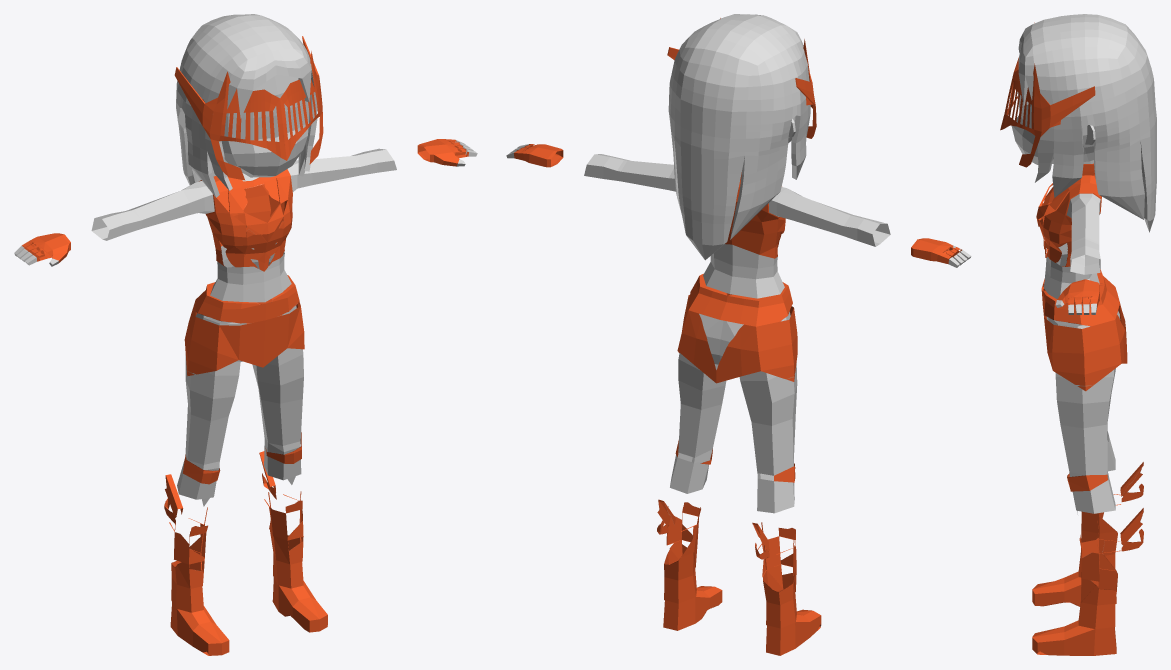
Rendered from Char03-Anim.fbx.
The picture shows the model from 3 angles, left to right: view 1: azimuth 30°, elevation 25°; view 2: azimuth 150°, elevation 25°; view 3: azimuth 270°, elevation 25°; orthographic projection.
Visible parts, largest first — view 1: Char; view 2: Char; view 3: Char.
Boxes of the visible parts, x1,y1,x2,y2 form: Char: (14,14,477,655); Char: (506,14,971,655); Char: (1000,14,1156,655).
Bounding box in the file's own units: 297 × 379 × 89.24.
3 materials, 2 textured.
